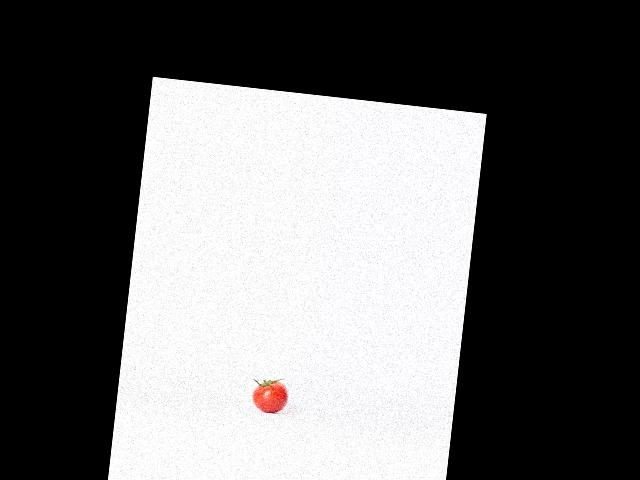tomato: (251, 379, 290, 414)
